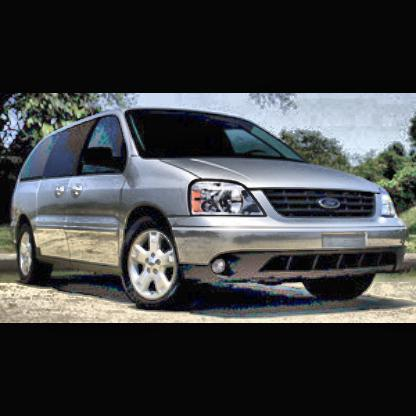Ford Freestar Minivan 2007: (12, 110, 408, 315)
